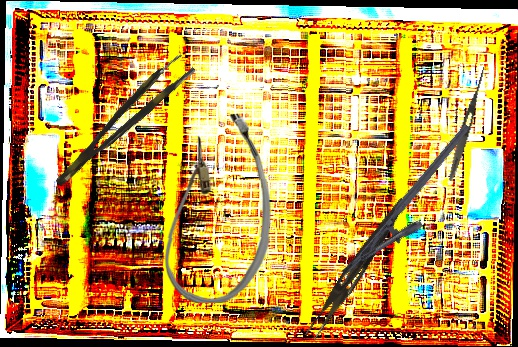Cannula: (161, 113, 273, 304)
Dressing Forceps: (304, 192, 409, 345), (445, 65, 489, 183)
Needle Holder: (339, 122, 492, 294)
Tissue Forceps: (44, 51, 197, 189)
